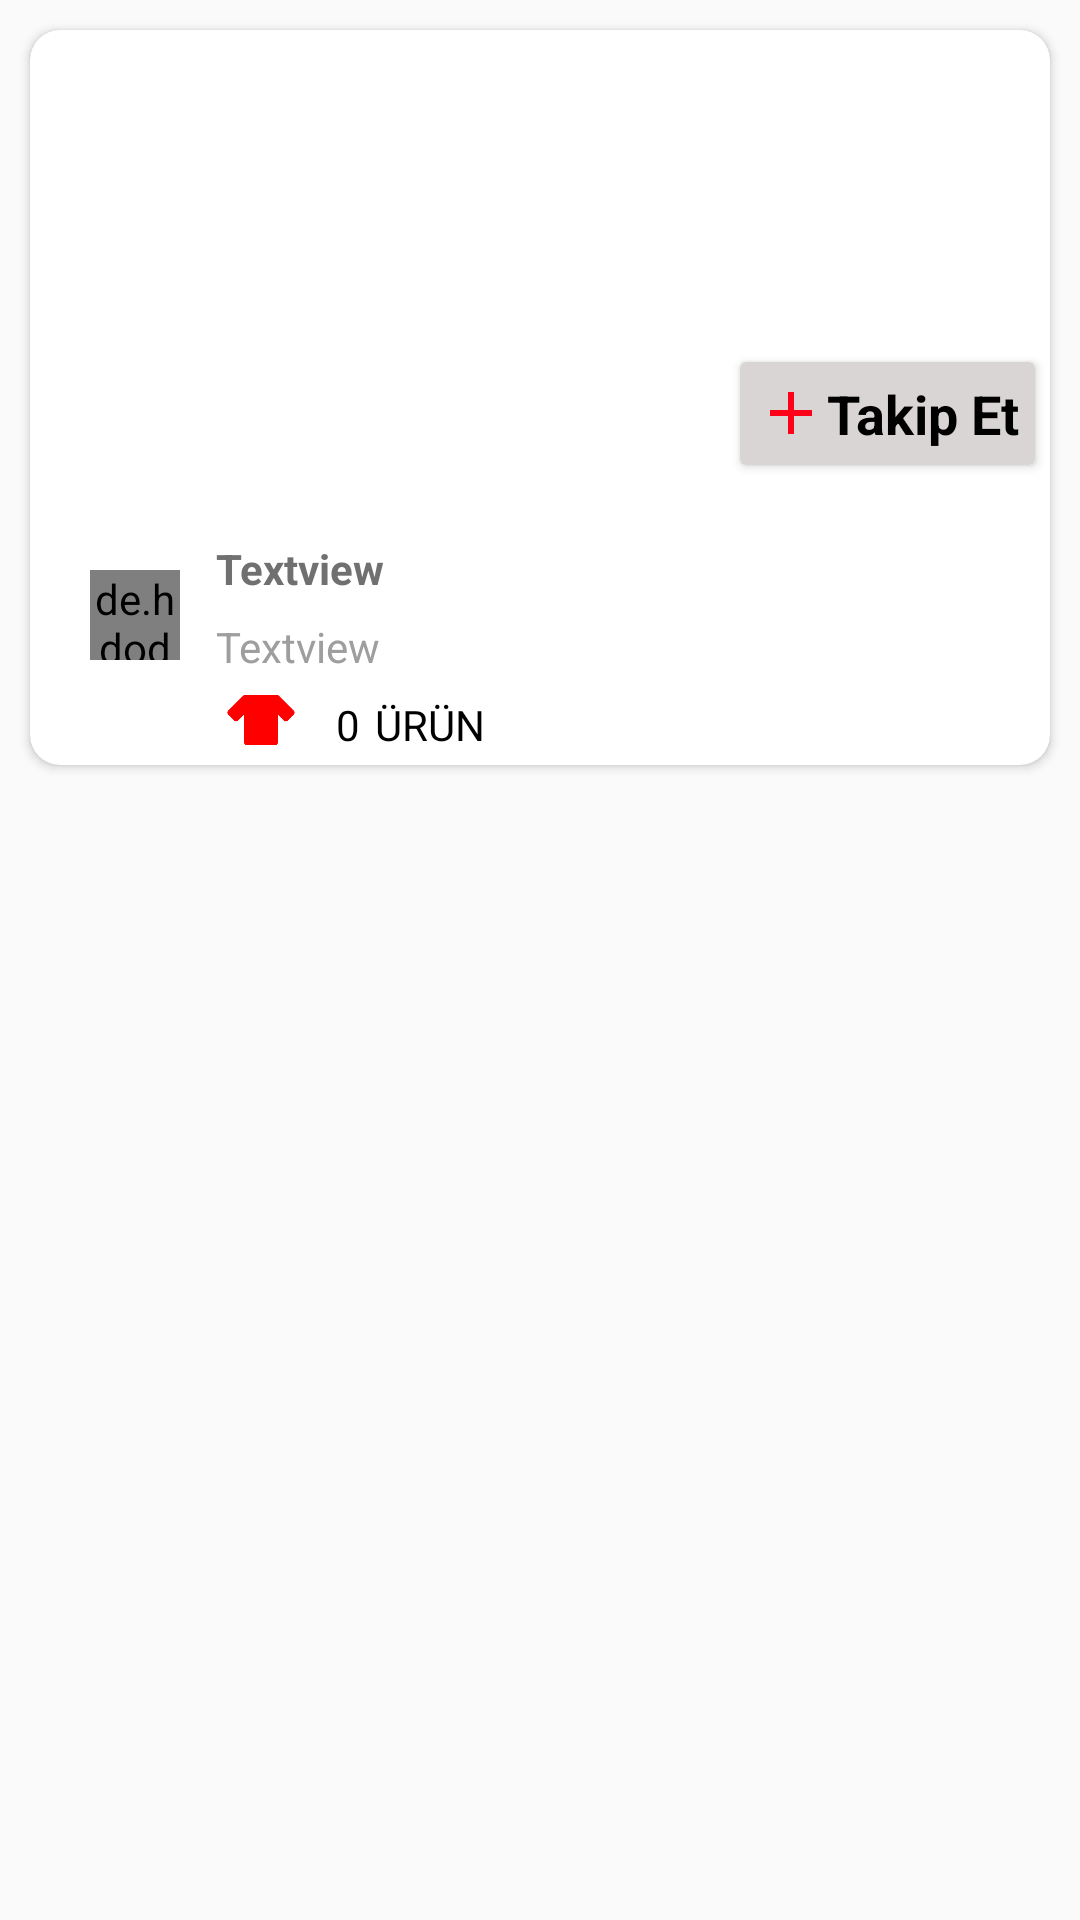

Named icons in this screenshot (1080 × 1920) and their bounding boxes, (x1, y1, x2, y2):
vitrinclothes: (227, 695, 295, 745)
